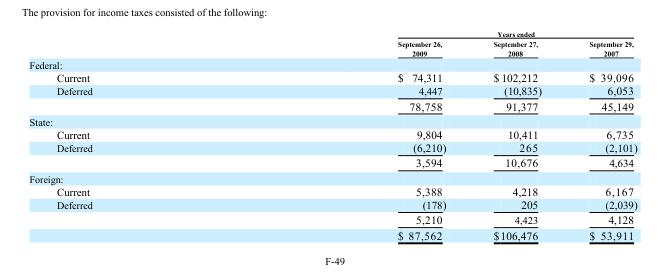table: (28, 29, 636, 240)
table column: (244, 29, 469, 240), (28, 29, 244, 240), (469, 29, 564, 240), (564, 29, 636, 240)
table column header: (28, 29, 636, 58)
table projected row header: (28, 113, 636, 127), (28, 170, 636, 184), (28, 58, 636, 70)
table row: (28, 38, 636, 58), (28, 211, 636, 227), (28, 98, 636, 113), (28, 140, 636, 155), (28, 155, 636, 170), (28, 70, 636, 84), (28, 84, 636, 98), (28, 113, 636, 127), (28, 170, 636, 184), (28, 197, 636, 211), (28, 127, 636, 140), (28, 184, 636, 197), (28, 227, 636, 240), (28, 58, 636, 70), (28, 29, 636, 38)
table spanning cell: (244, 29, 636, 38)
